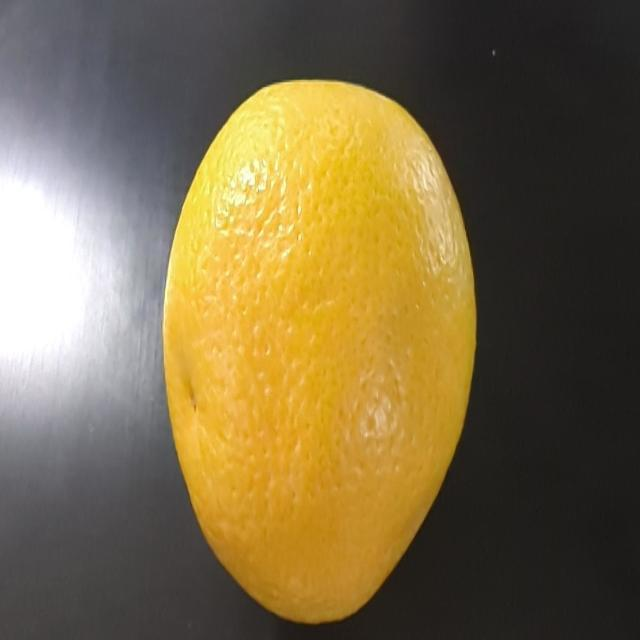Jeruk: (161, 26, 492, 600)
